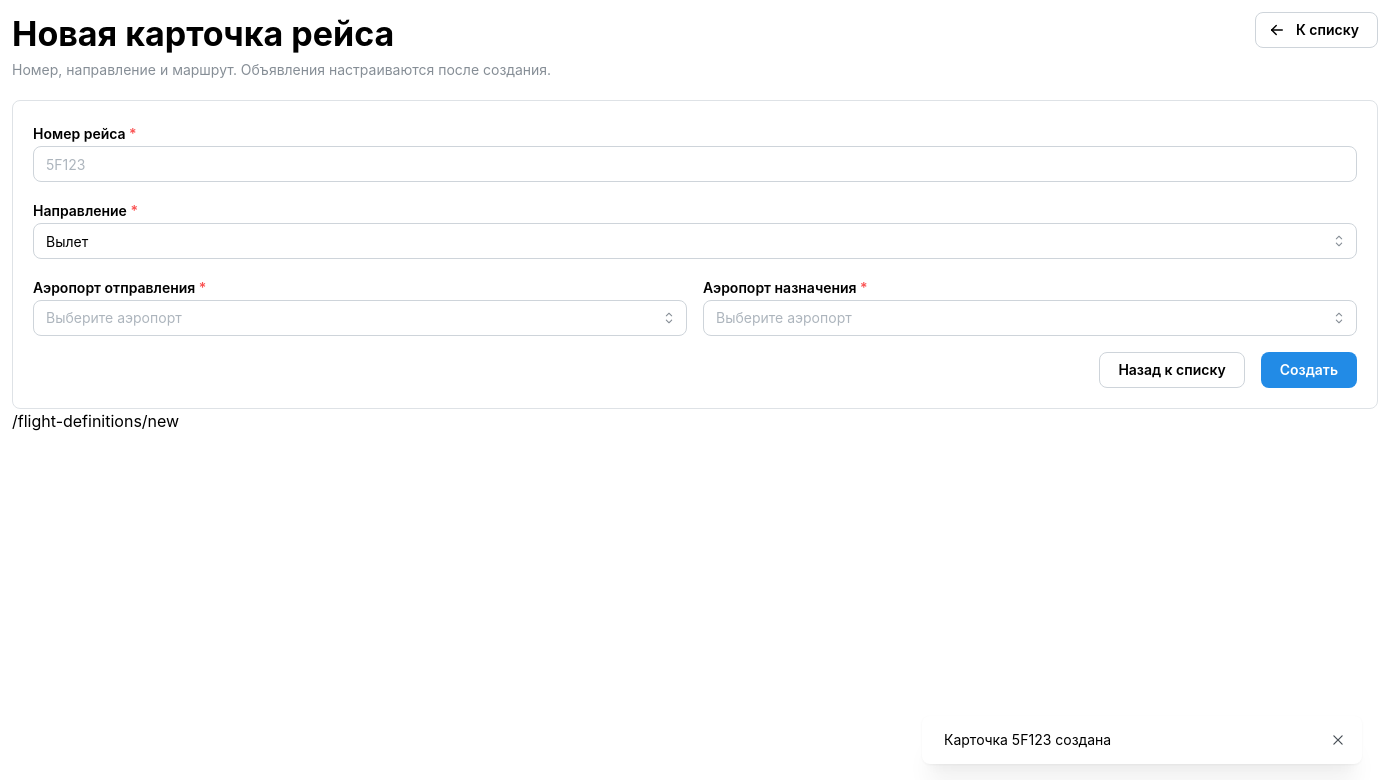
FlightDefinitionCreatePage › shows API errors near the form
The width and height of the screenshot is (1390, 780).
Type "5f123" into the field labelled "Номер рейса *". click: (695,164)
box: [33, 146, 1357, 182]
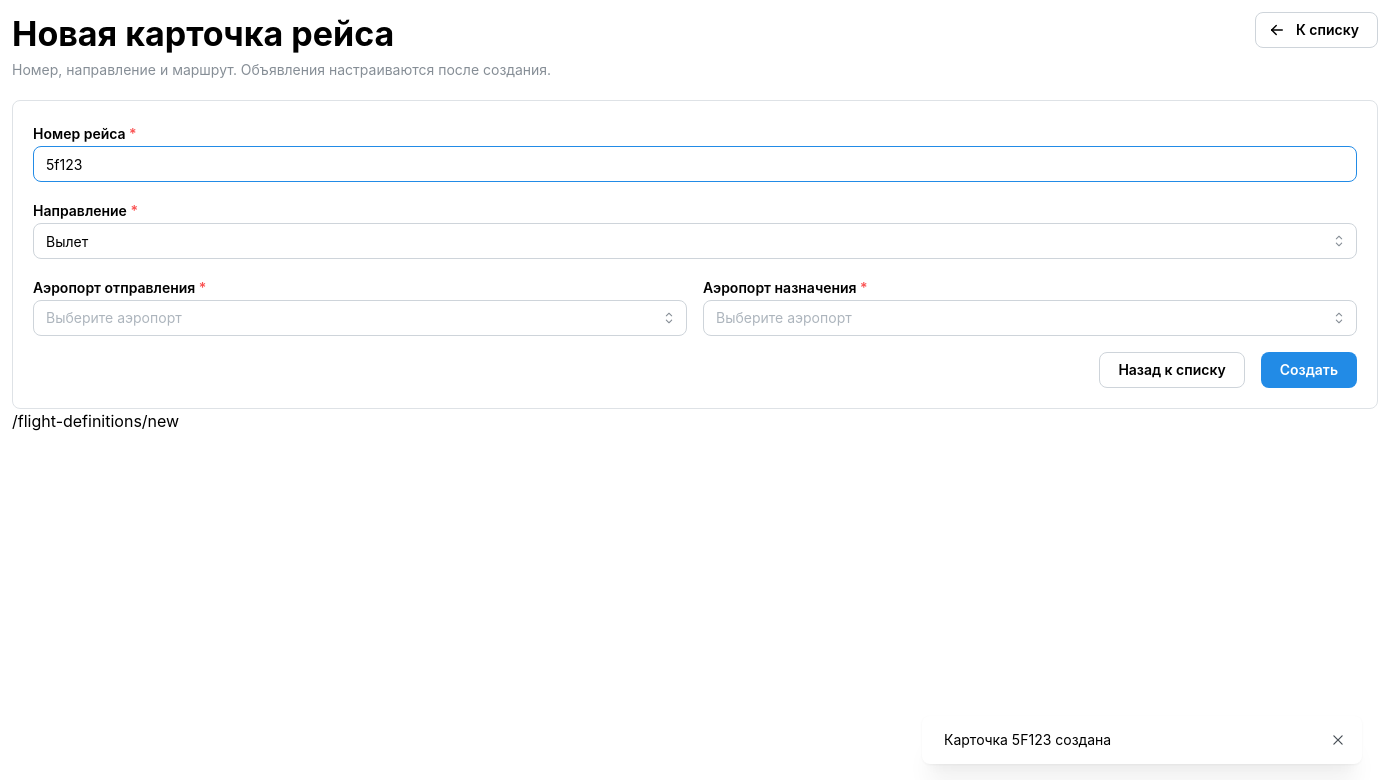
Click the dropdown labelled "Аэропорт отправления *". click: (360,318)
box: [33, 300, 687, 336]
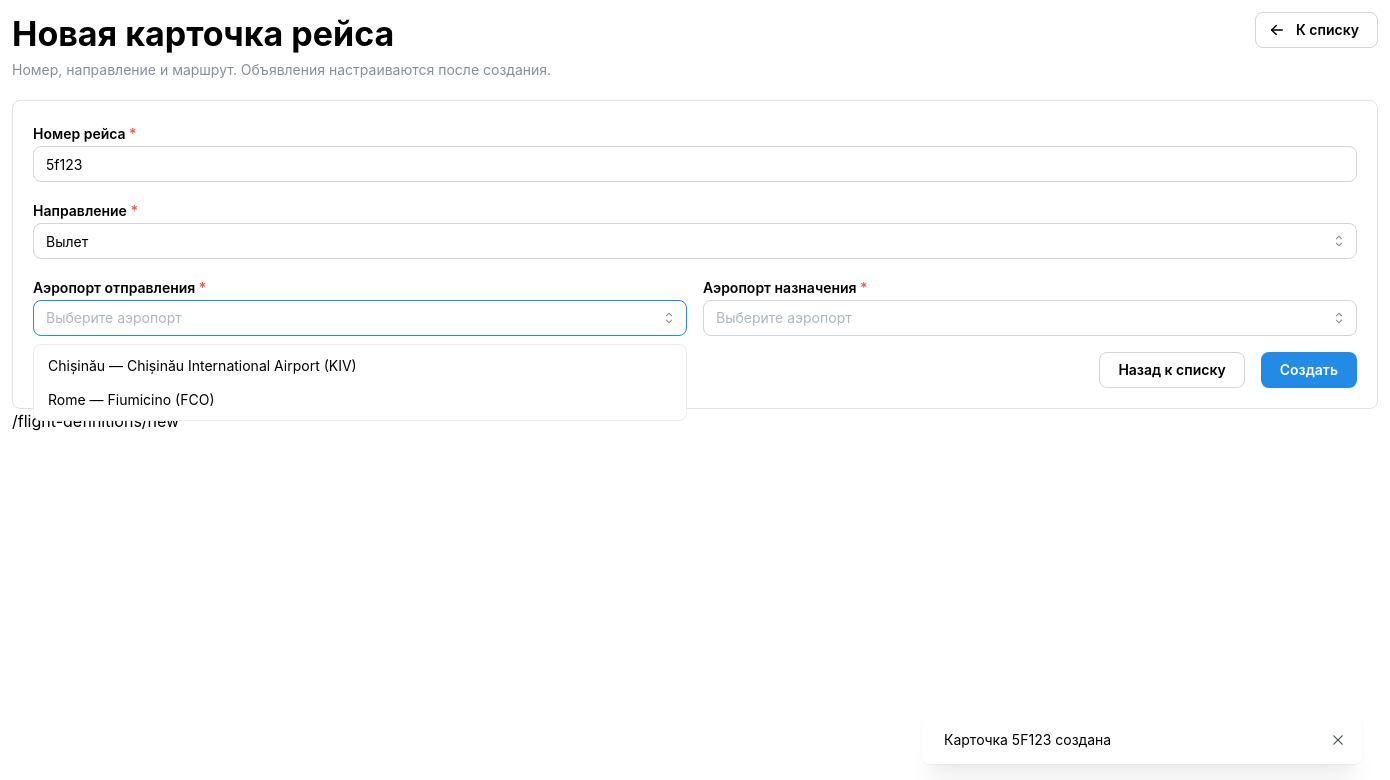
Click the option "Chișinău — Chișinău International Airport (KIV)". click: (202,365)
box: [48, 357, 357, 374]
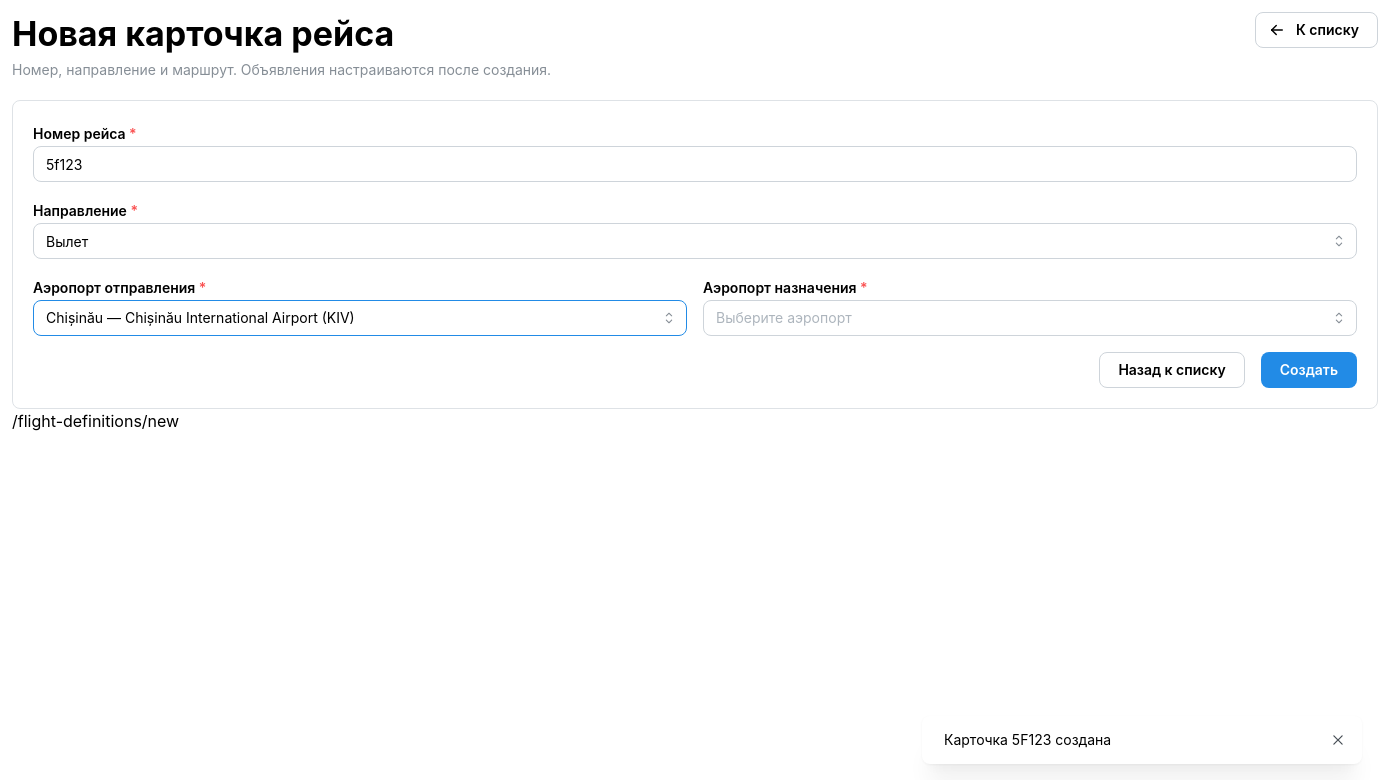
Click the dropdown labelled "Аэропорт назначения *". click: (1030,318)
box: [703, 300, 1357, 336]
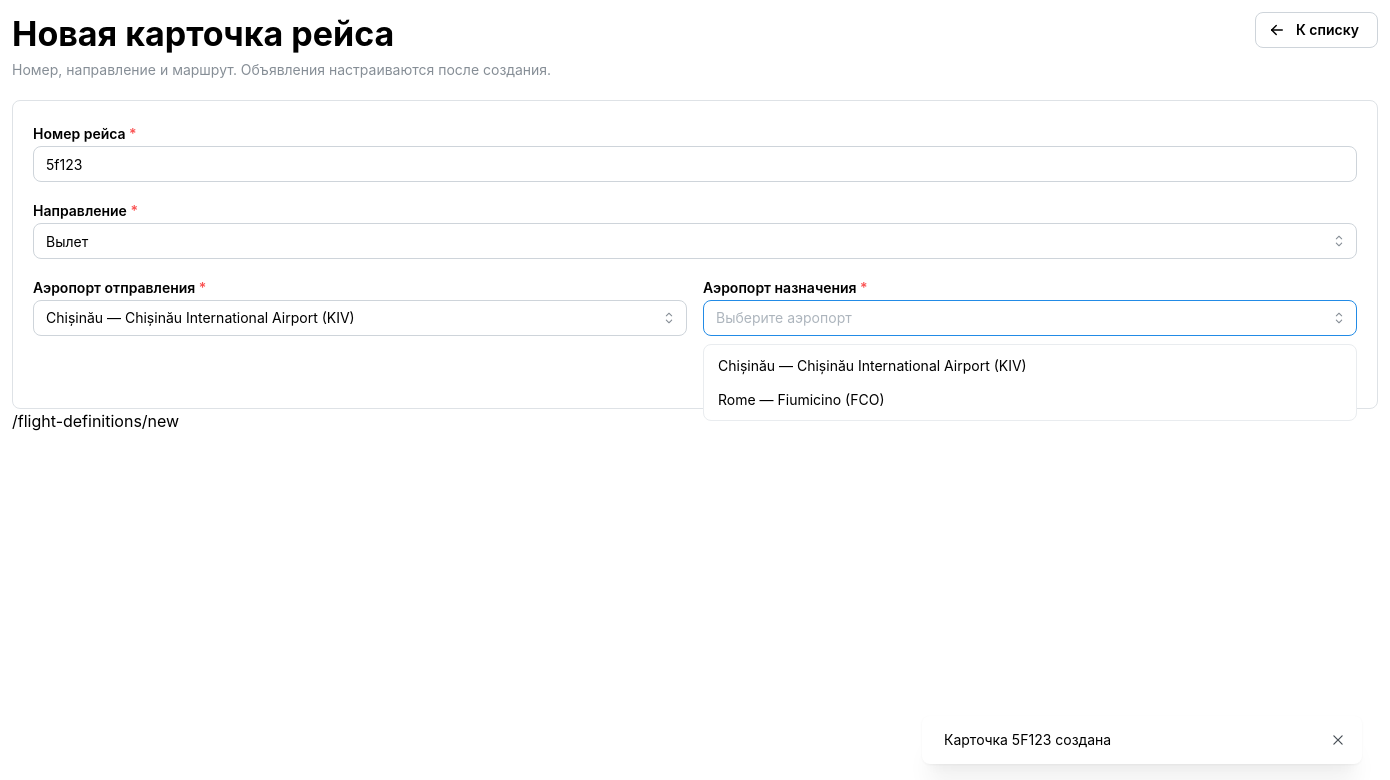
Click the option "Rome — Fiumicino (FCO)". click: (801,399)
box: [718, 391, 884, 408]
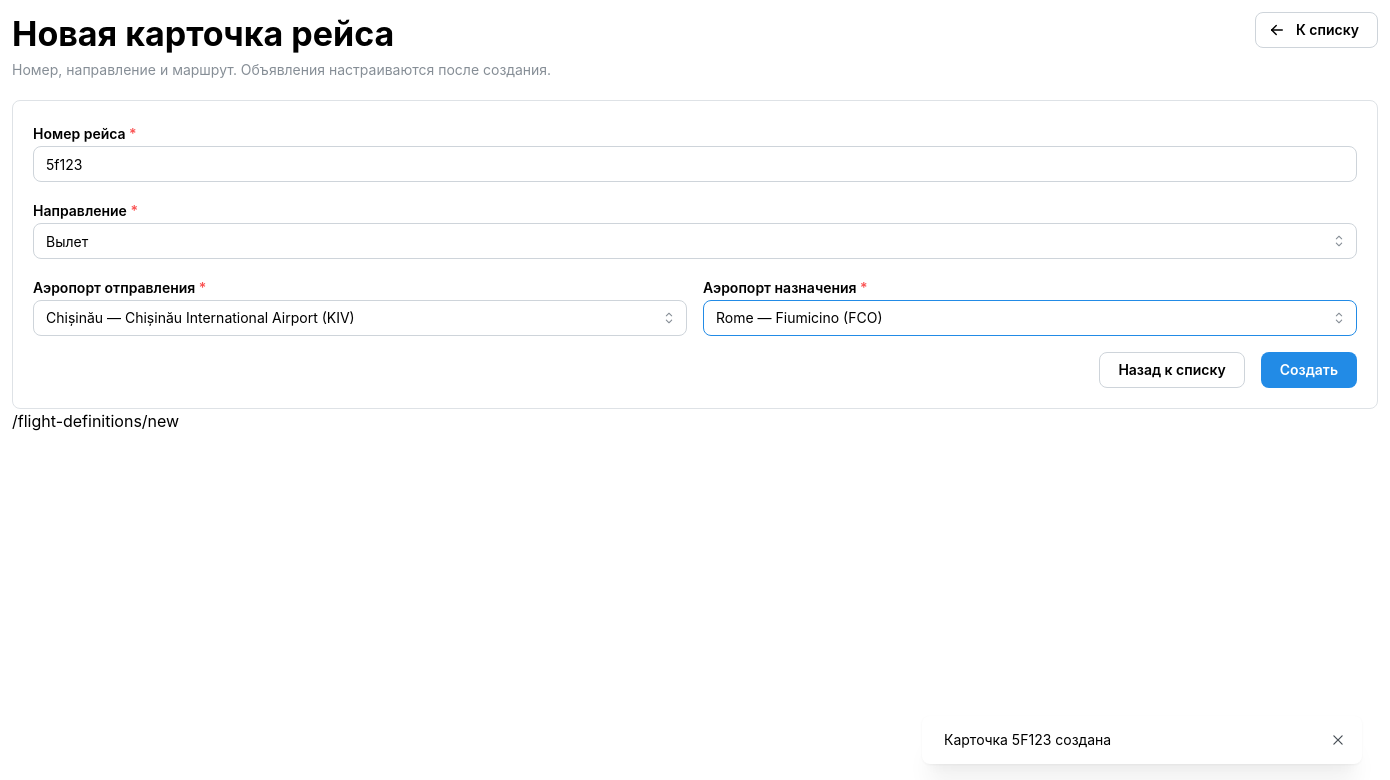
Click the button "Создать". click: (1309,370)
box: [1261, 352, 1357, 388]
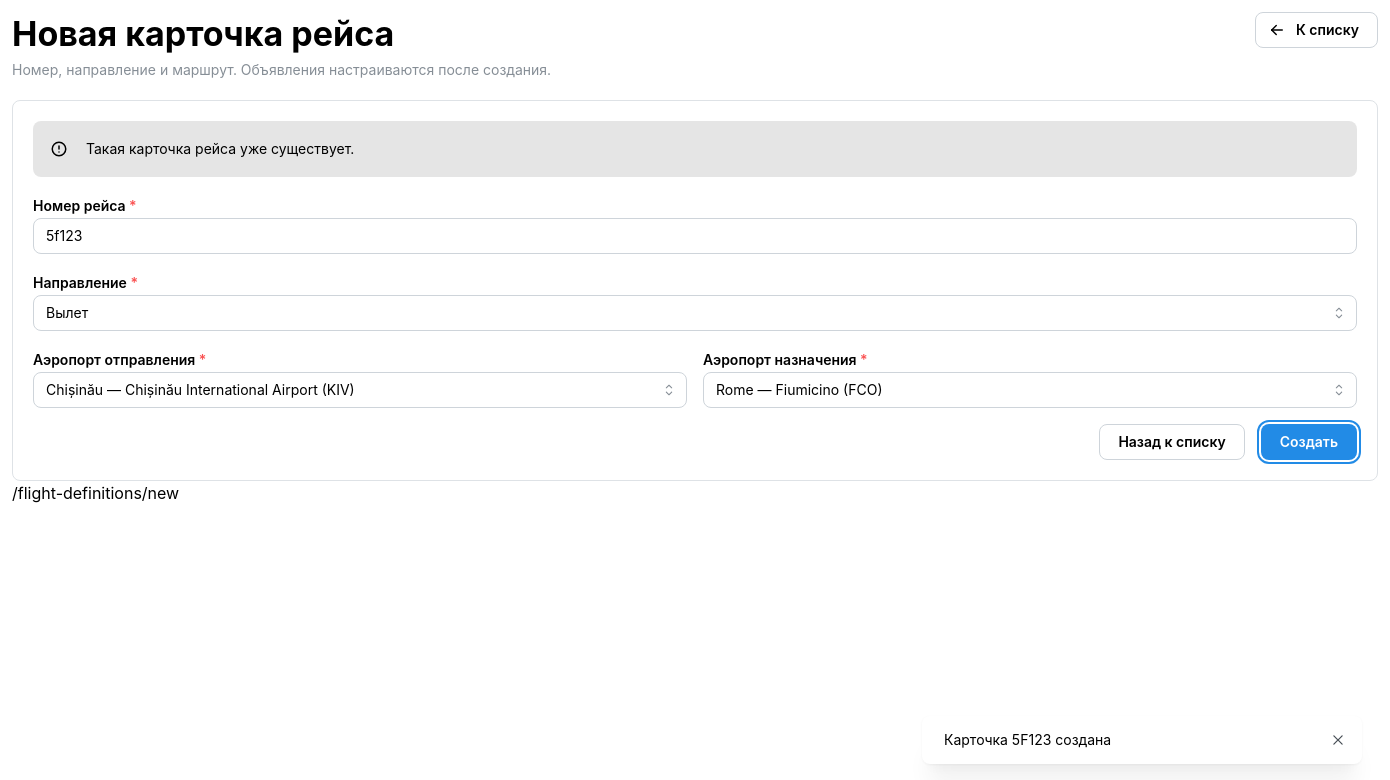
Expected: the text "Такая карточка рейса уже существует." is shown, [86, 140, 354, 158]
